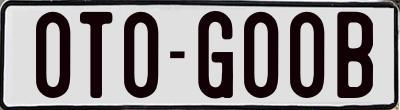0: (33, 12, 71, 104), (289, 12, 326, 100), (124, 11, 160, 100), (242, 10, 276, 98)
B: (334, 9, 374, 95)
G: (195, 10, 230, 101)
T: (77, 12, 113, 102)
